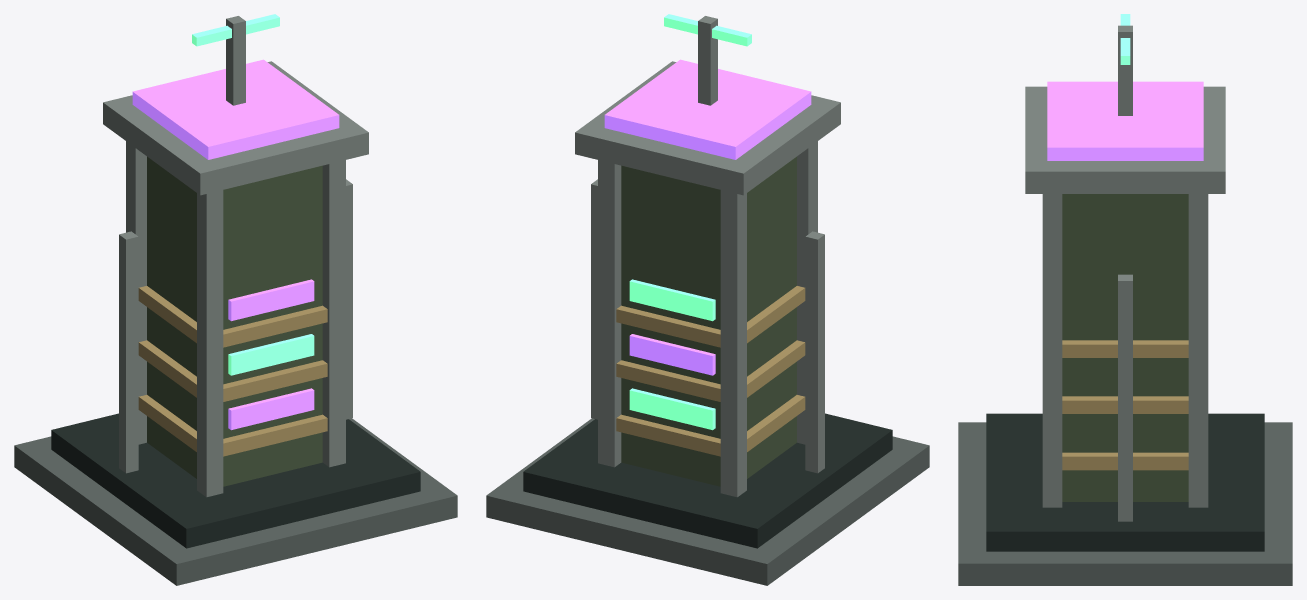
Rendered from chronicle_beacon_l03.glb.
3 renders of one model, left to right at view 1: azimuth 30°, elevation 25°; view 2: azimuth 150°, elevation 25°; view 3: azimuth 270°, elevation 25°, orthographic. The views are drawn at different scales.
Parts seen in each view (by area): view 1: chronicle_beacon_l03; view 2: chronicle_beacon_l03; view 3: chronicle_beacon_l03.
Boxes of the visible parts, x1=… form: chronicle_beacon_l03: x1=14, y1=14, x2=457, y2=585; chronicle_beacon_l03: x1=486, y1=14, x2=929, y2=585; chronicle_beacon_l03: x1=958, y1=14, x2=1292, y2=585.
Bounding box in the file's own units: 2.7 × 4.34 × 2.7.
